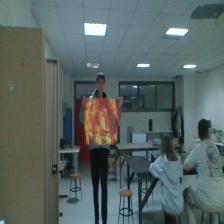fire-poster: (84, 98, 119, 145)
